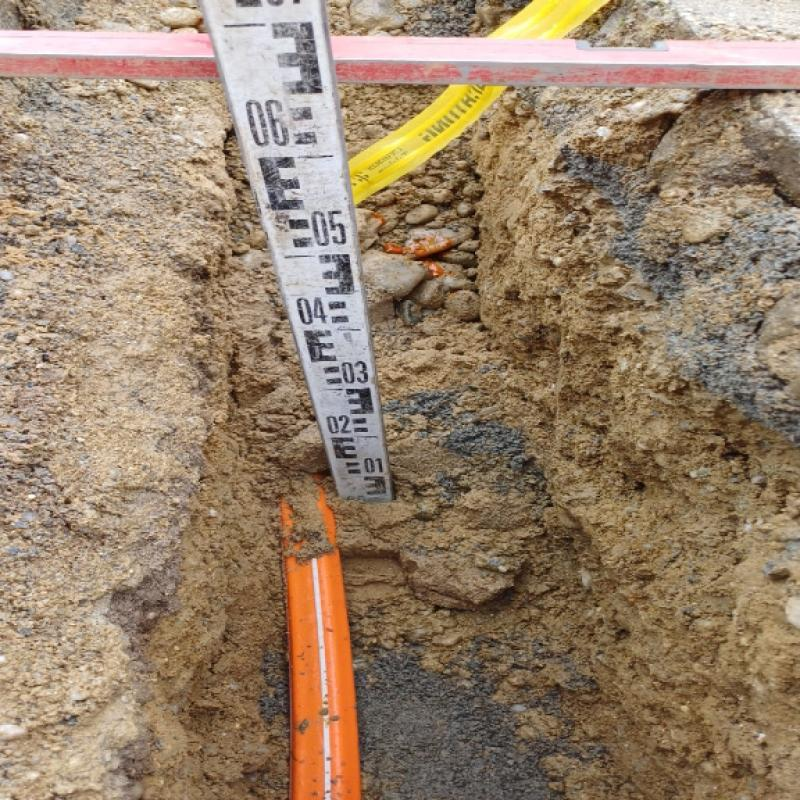Orang-Speednetrohrchen: (284, 483, 357, 800)
